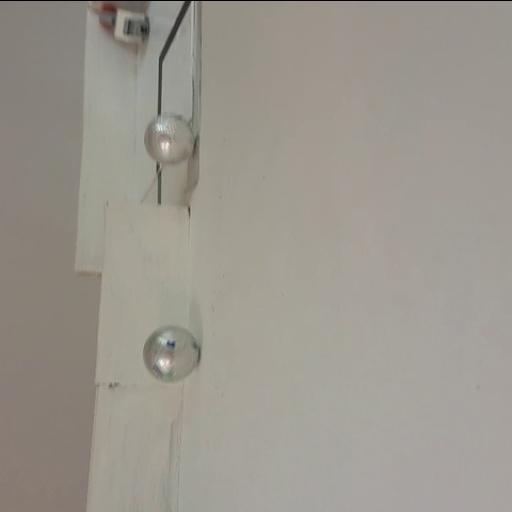alive: (140, 324, 200, 381), (144, 112, 195, 164)
